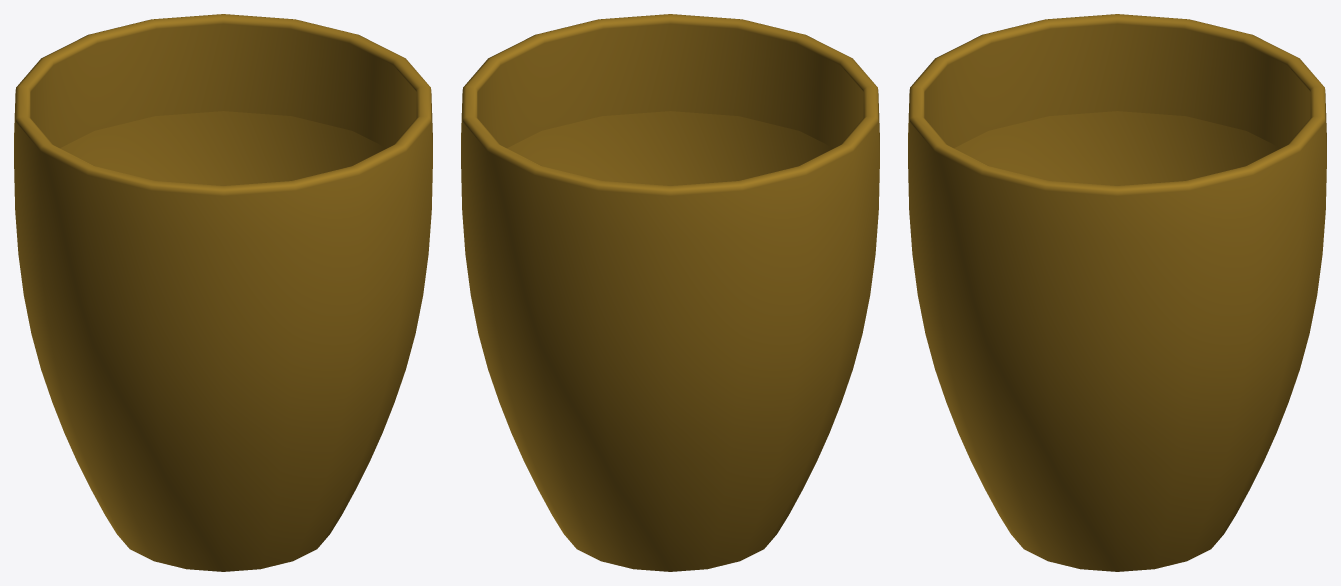
The model's file is Pot_9.FBX.
The picture shows the model from 3 angles, left to right: view 1: azimuth 30°, elevation 25°; view 2: azimuth 150°, elevation 25°; view 3: azimuth 270°, elevation 25°; orthographic projection.
Parts seen in each view (by area): view 1: Pot_9; view 2: Pot_9; view 3: Pot_9.
Part boxes in pixels (x1,y1,x2,y2): Pot_9: (14, 14, 432, 571); Pot_9: (461, 14, 879, 571); Pot_9: (908, 14, 1326, 571).
Bounding box in the file's own units: 31.45 × 34.65 × 30.97.
